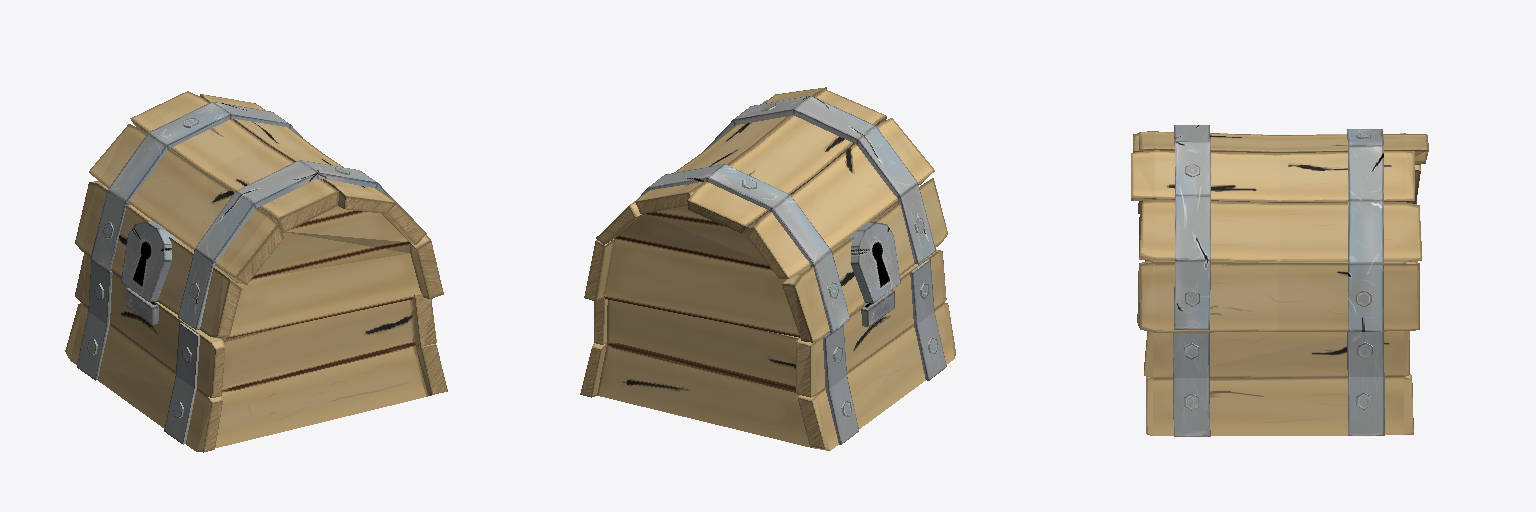
The picture shows the model from 3 angles: view 1: azimuth 30°, elevation 25°; view 2: azimuth 150°, elevation 25°; view 3: azimuth 270°, elevation 25°; orthographic projection.
Parts seen in each view (by area): view 1: polySurface7; view 2: polySurface7; view 3: polySurface7.
Boxes of the visible parts, <box> form: polySurface7: <box>65,91,447,452</box>; polySurface7: <box>580,87,955,450</box>; polySurface7: <box>1131,125,1428,436</box>.
Size of the model in its own units: 2.33 by 2.1 by 2.38.
1 materials, 1 textured.